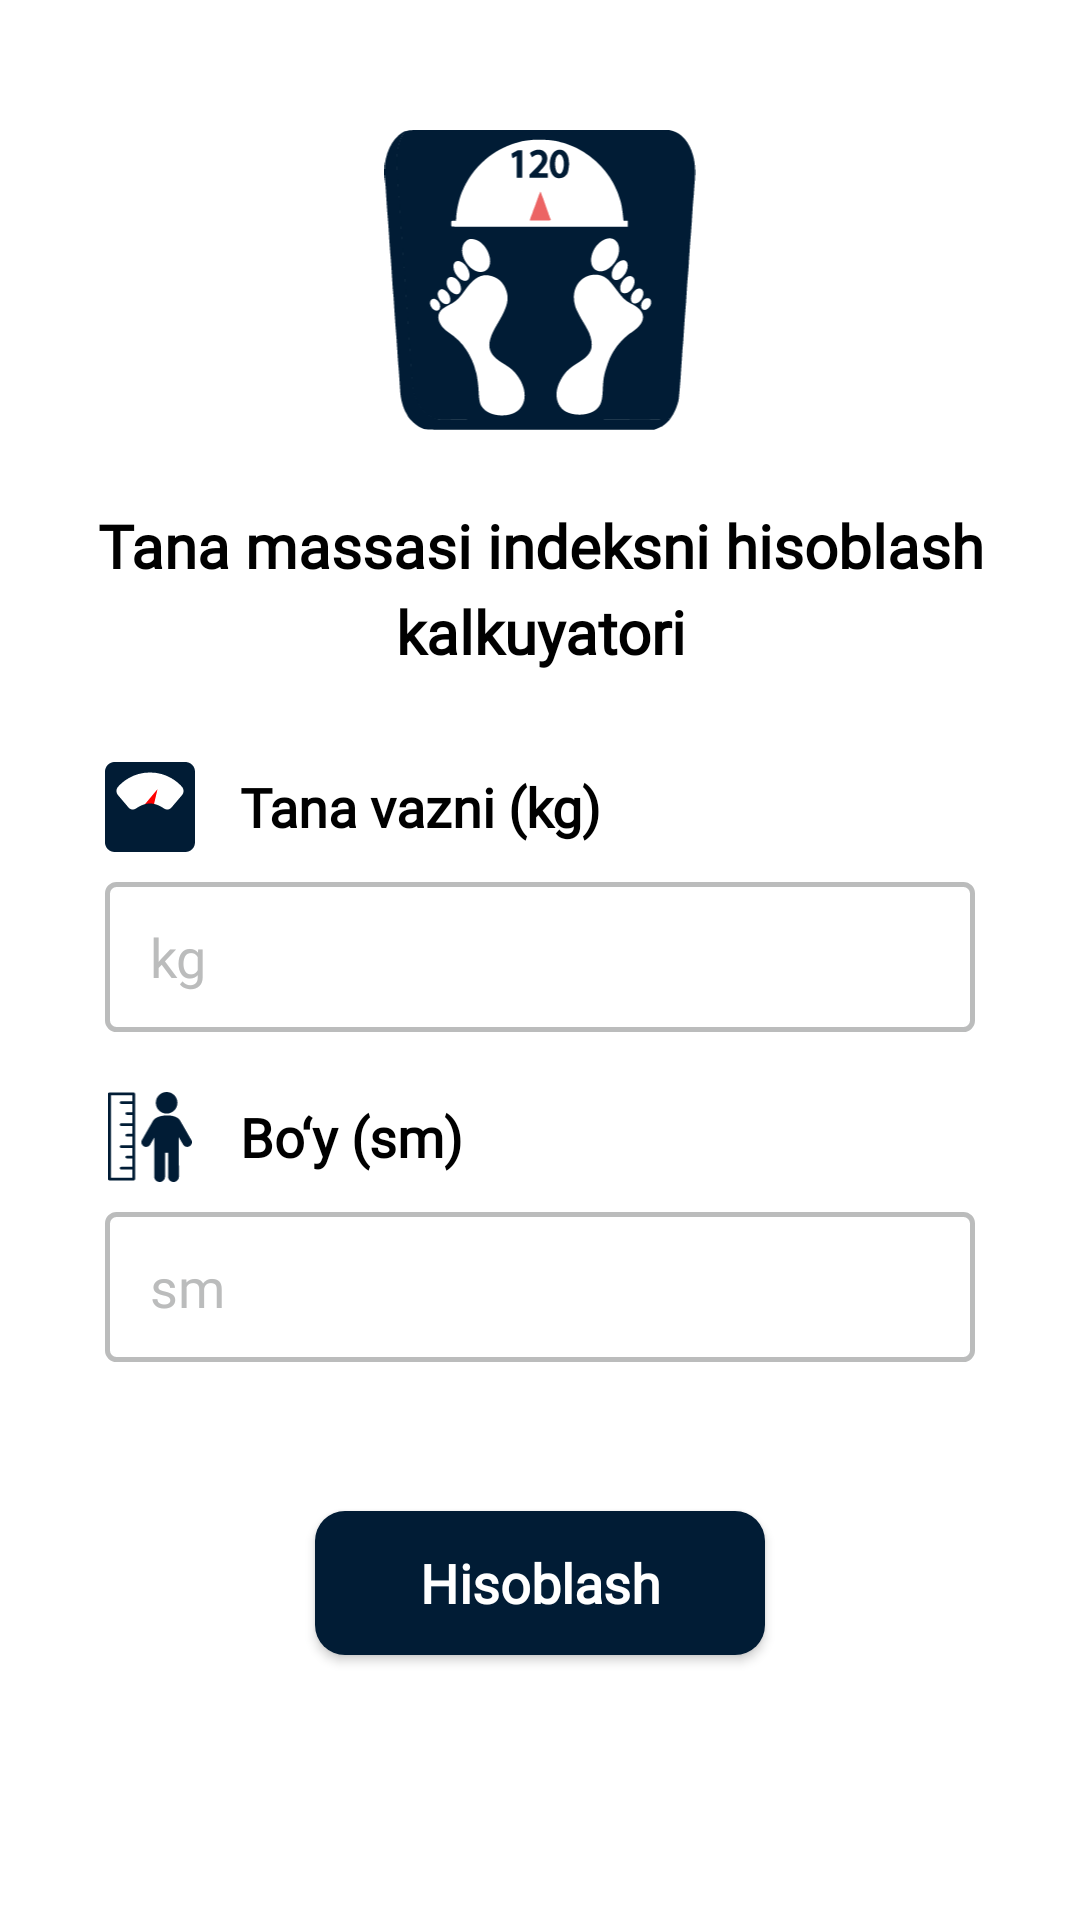

Named icons in this screenshot (1080px×1920px) and their bounding boxes, (x1, y1, x2, y2):
body scale: (384, 130, 696, 430)
measure height: (108, 1092, 192, 1182)
scale: (105, 762, 195, 852)
